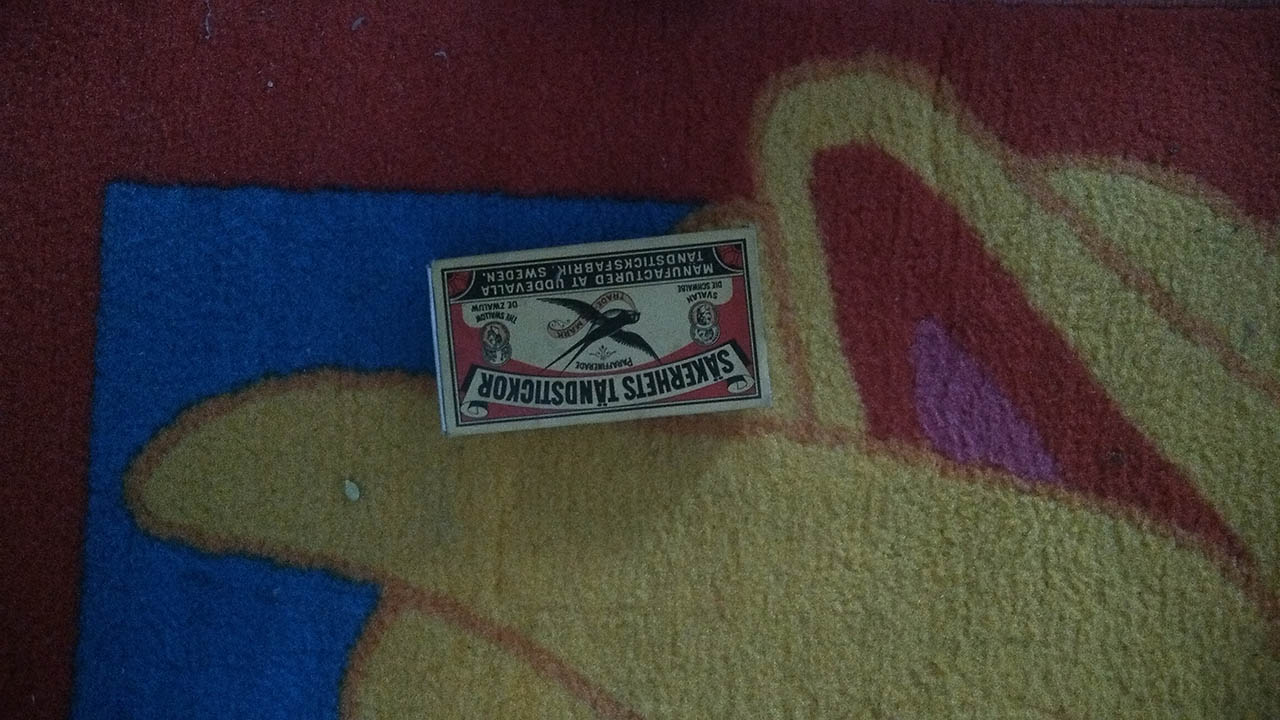match-sticks .90$: (386, 196, 824, 453)
